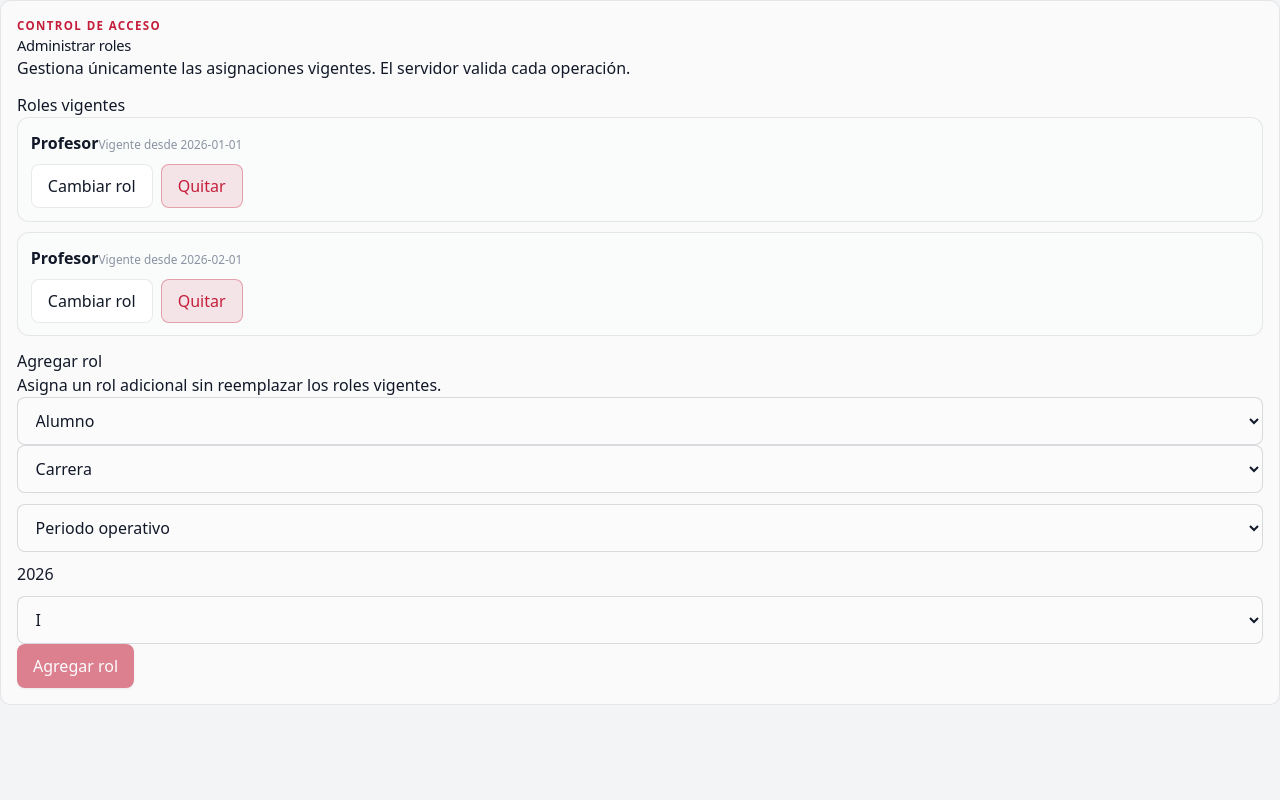
Test: PersonRolesPanel › limpia el borrador del cambio al dejar de elegir Alumno
Click the button "Cambiar rol" below "2026-01-01".
click(92, 186)  # box 31,164 -> 153,208
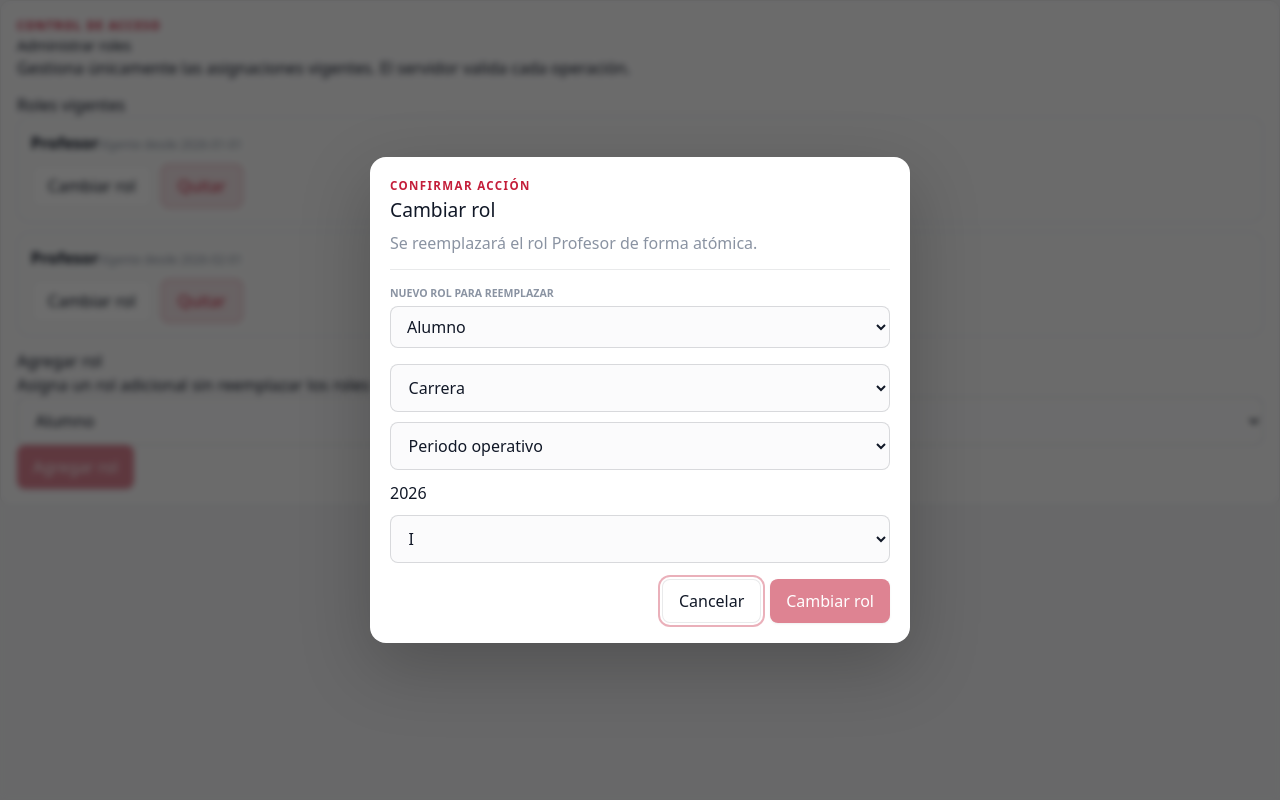
Select "Artes" in the dropdown named "Carrera para el rol alumno" at (640, 388), box 390,364 -> 890,412
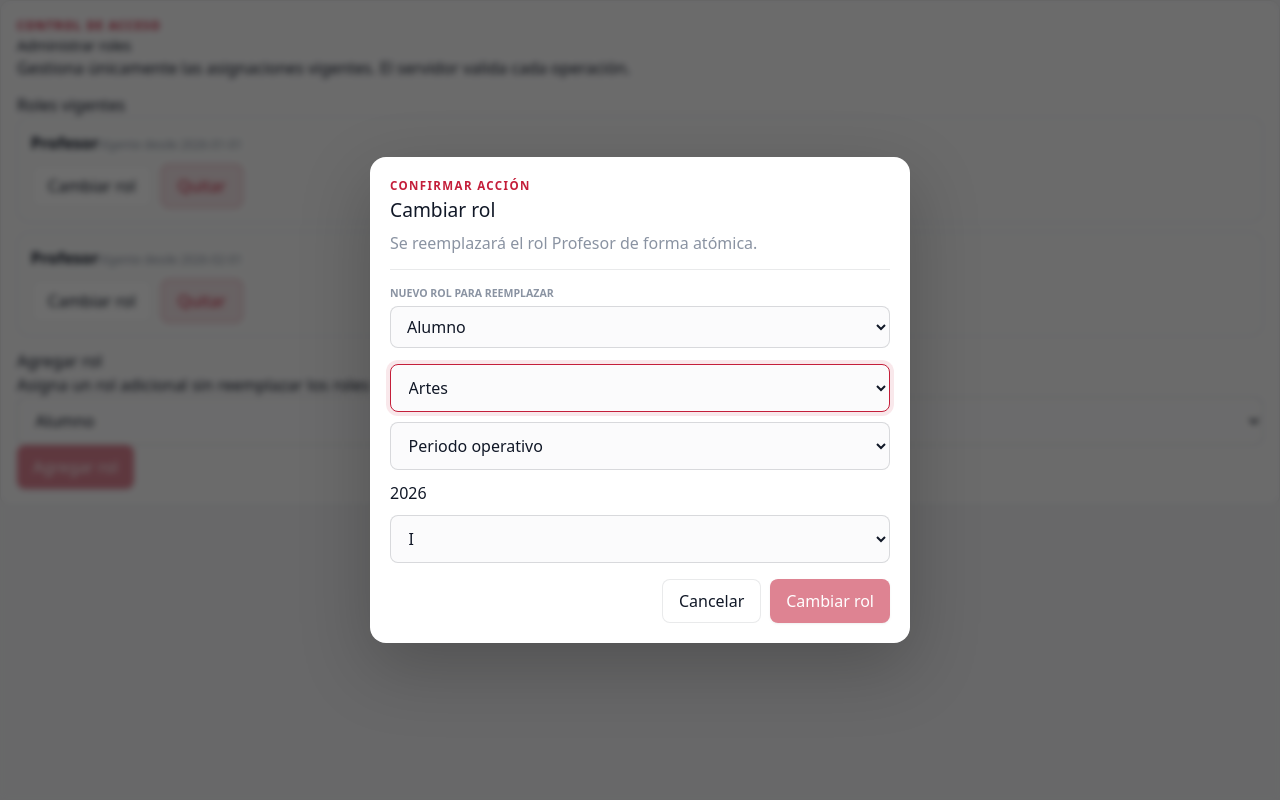
Select "2026-II" in the dropdown named "Periodo operativo de inscripción del rol alumno" at (640, 446), box 390,422 -> 890,470
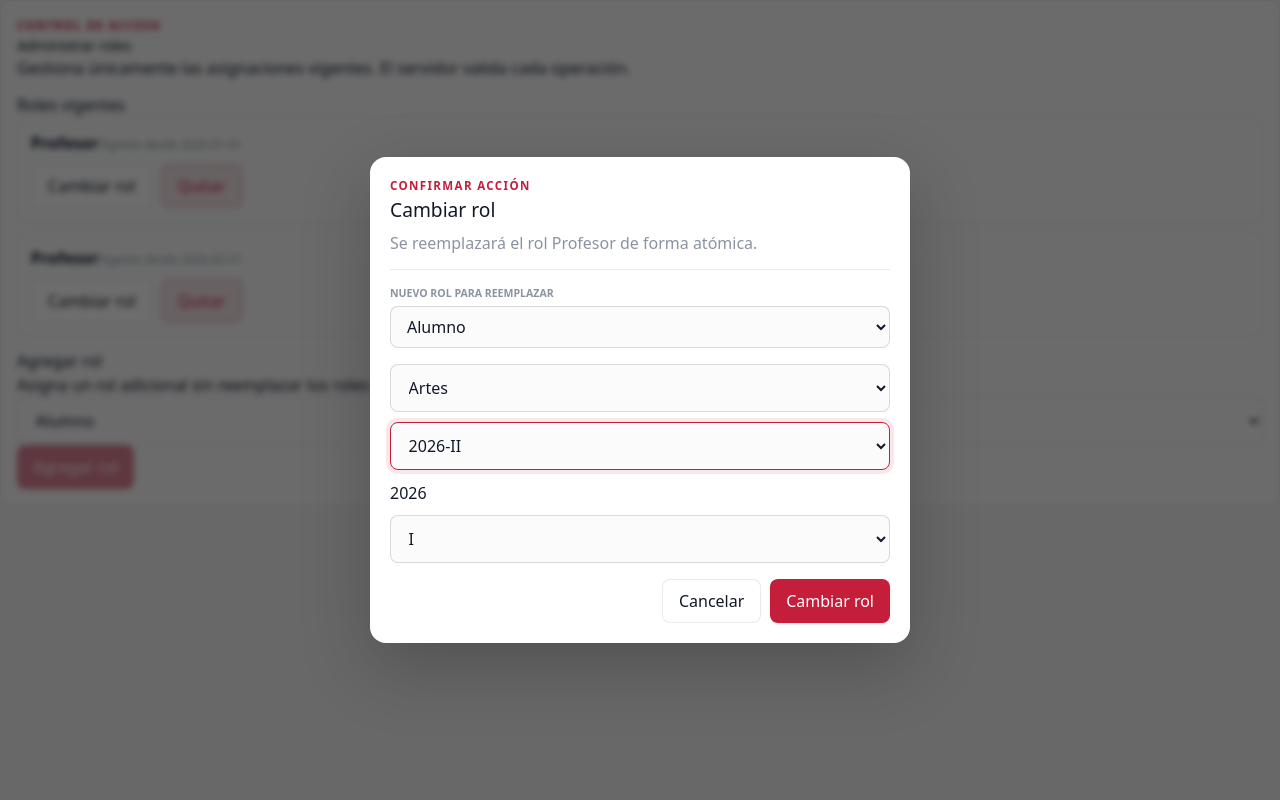
Select "Director académico" in the dropdown labelled "Nuevo rol para reemplazar" at (640, 327), box 390,306 -> 890,348
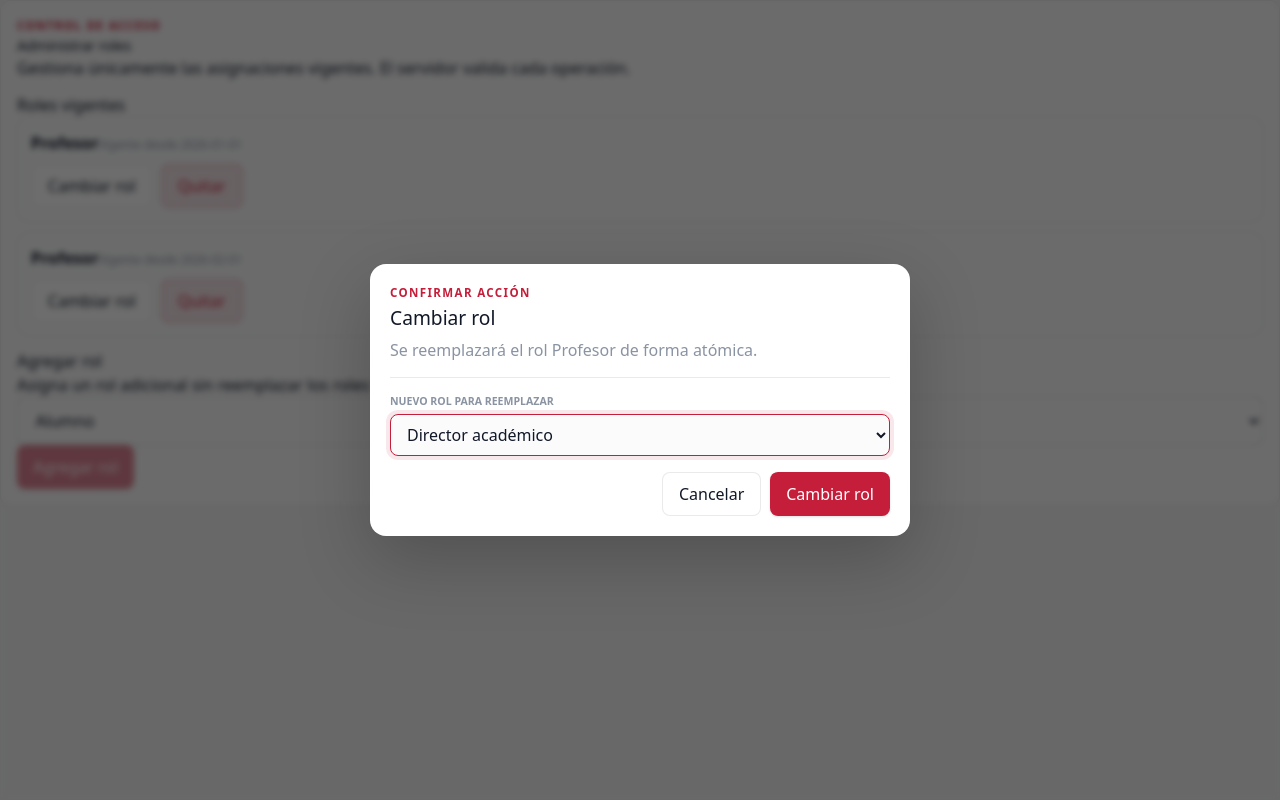
Select "Alumno" in the dropdown labelled "Nuevo rol para reemplazar" at (640, 435), box 390,414 -> 890,456
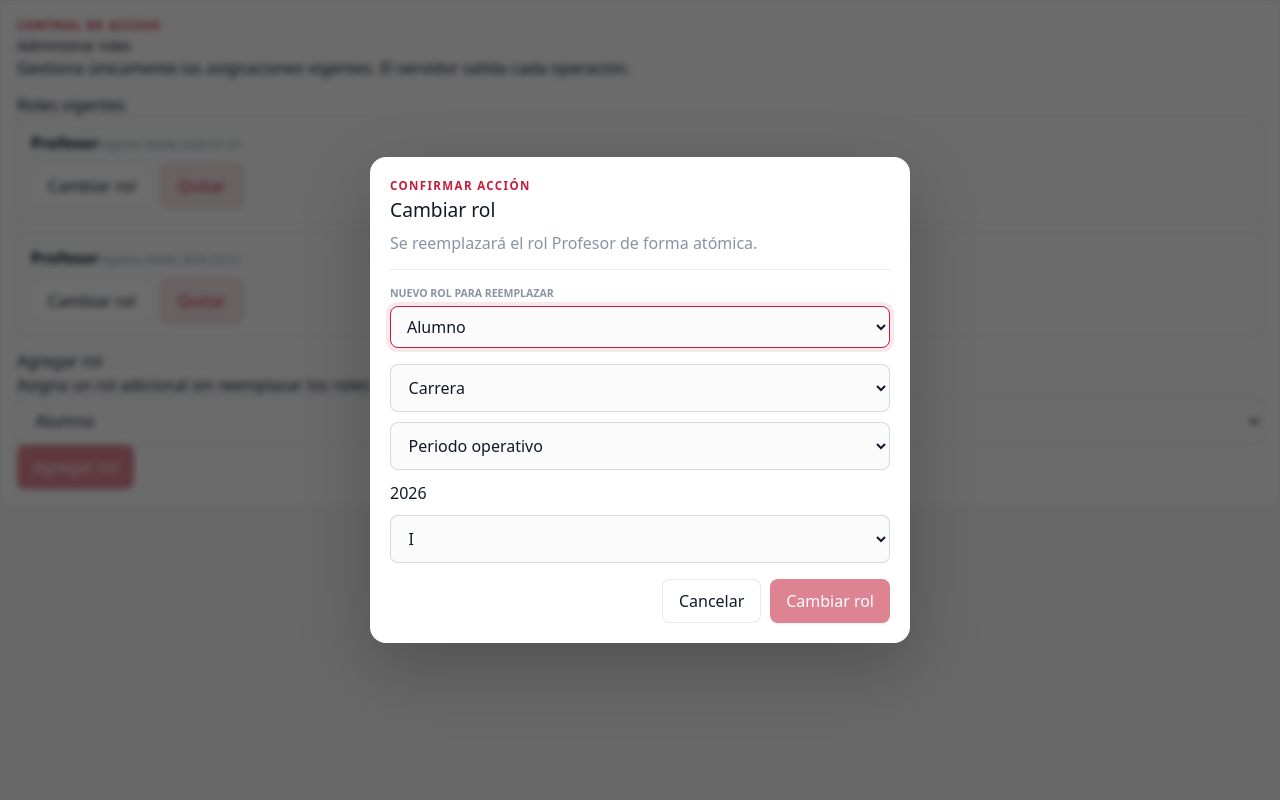
Expected: the dropdown named "Carrera para el rol alumno" shows "Carrera", 390,364 -> 890,412
Expected: the dropdown named "Periodo operativo de inscripción del rol alumno" shows "Periodo operativo", 390,422 -> 890,470
